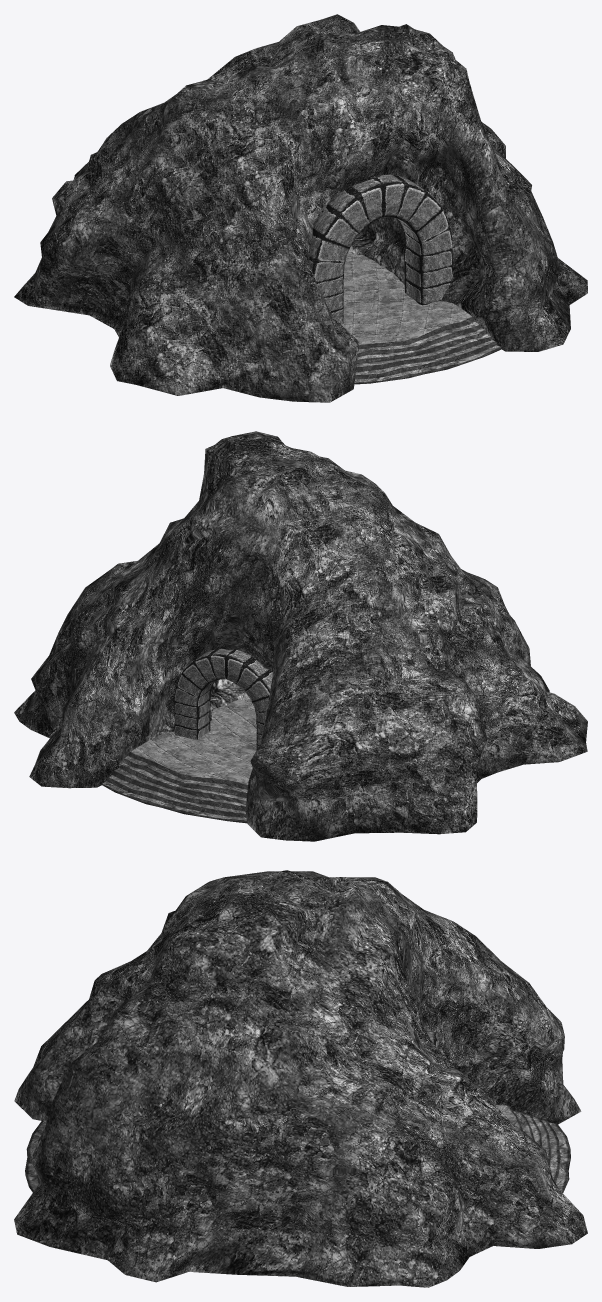
File: cave steel 001.fbx
3 renders of one model, top to bottom at view 1: azimuth 30°, elevation 25°; view 2: azimuth 150°, elevation 25°; view 3: azimuth 270°, elevation 25°, orthographic. The views are drawn at different scales.
Parts seen in each view (by area): view 1: cave stone; view 2: cave stone; view 3: cave stone.
Part boxes in pixels (bbox=[...]): cave stone: bbox=[14, 14, 587, 402]; cave stone: bbox=[14, 431, 587, 841]; cave stone: bbox=[14, 870, 587, 1287].
Size of the model in its own units: 594 by 309 by 544.
